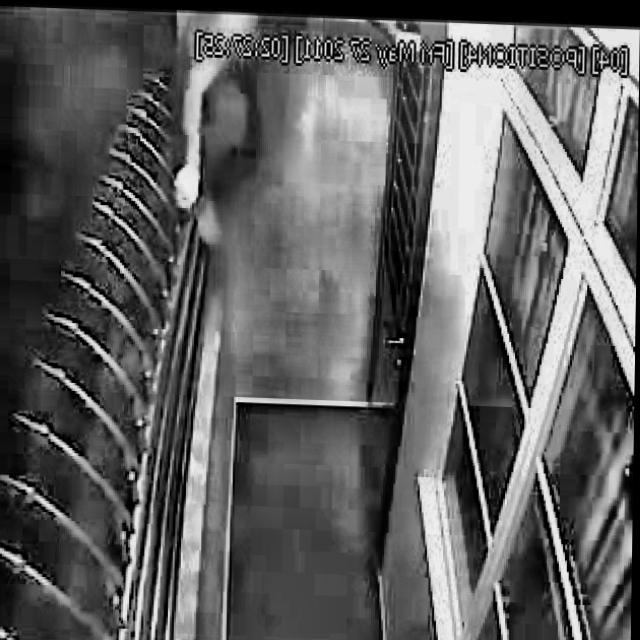burglary: (174, 11, 429, 254)
